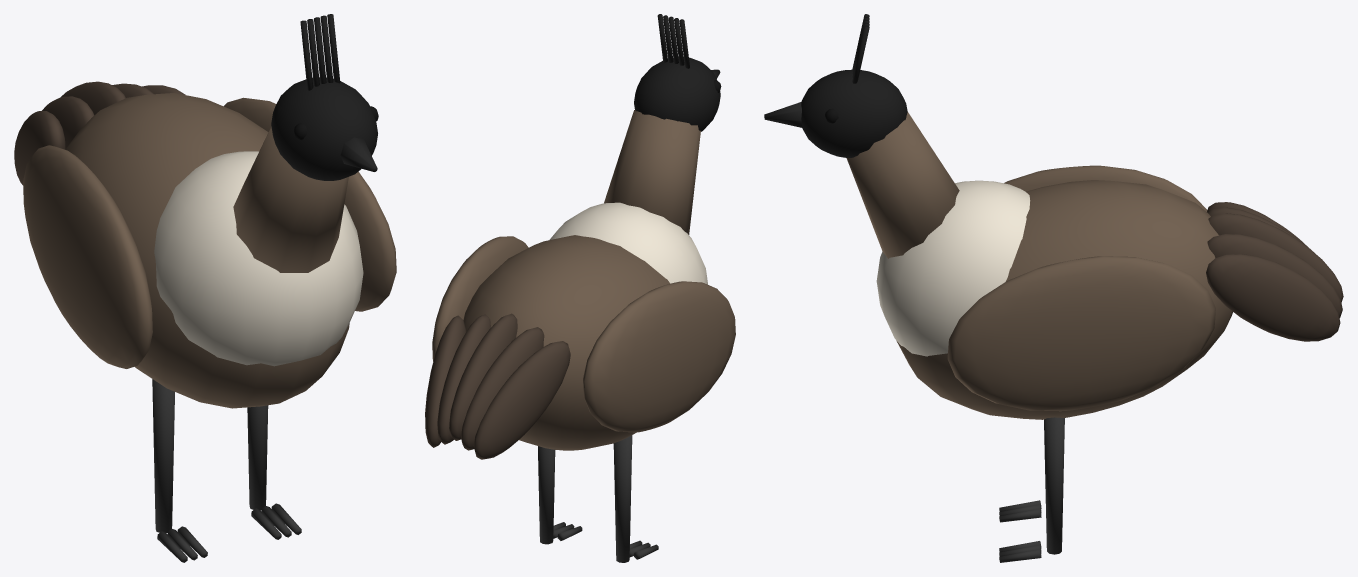
The model's file is bulbul.glb.
3 renders of one model, left to right at view 1: azimuth 30°, elevation 25°; view 2: azimuth 150°, elevation 25°; view 3: azimuth 270°, elevation 25°, orthographic. The views are drawn at different scales.
Visible parts, largest first — view 1: bulbul; view 2: bulbul; view 3: bulbul.
Part boxes in pixels (bbox=[...]): bulbul: bbox=[14, 14, 396, 562]; bulbul: bbox=[425, 14, 735, 562]; bulbul: bbox=[764, 14, 1343, 562].
Size of the model in its own units: 0.2424 by 0.5014 by 0.5083.
